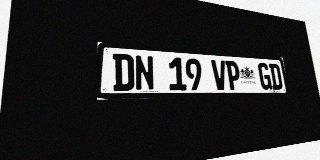1: (168, 57, 187, 91)
9: (185, 58, 203, 90)
D: (113, 53, 134, 91), (269, 63, 283, 90)
G: (257, 63, 272, 90)
N: (134, 55, 155, 91)
P: (225, 61, 242, 90)
V: (211, 60, 228, 90)
